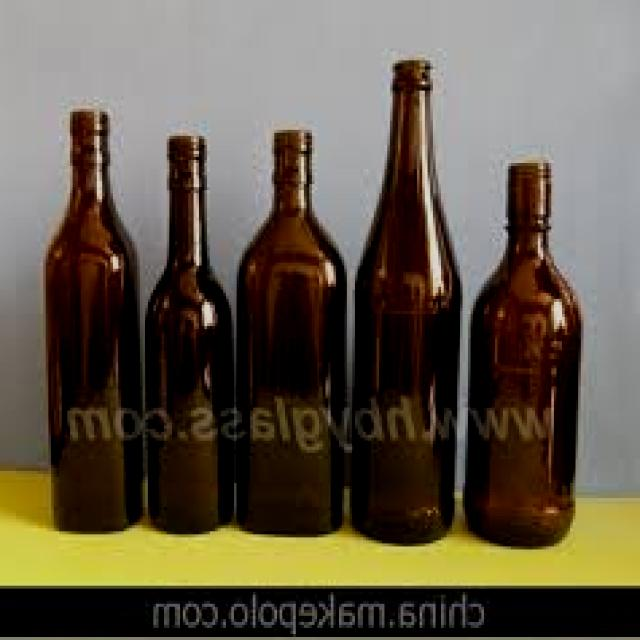inorganic: (350, 64, 461, 543), (237, 131, 346, 537), (466, 164, 581, 545), (145, 134, 236, 536)
